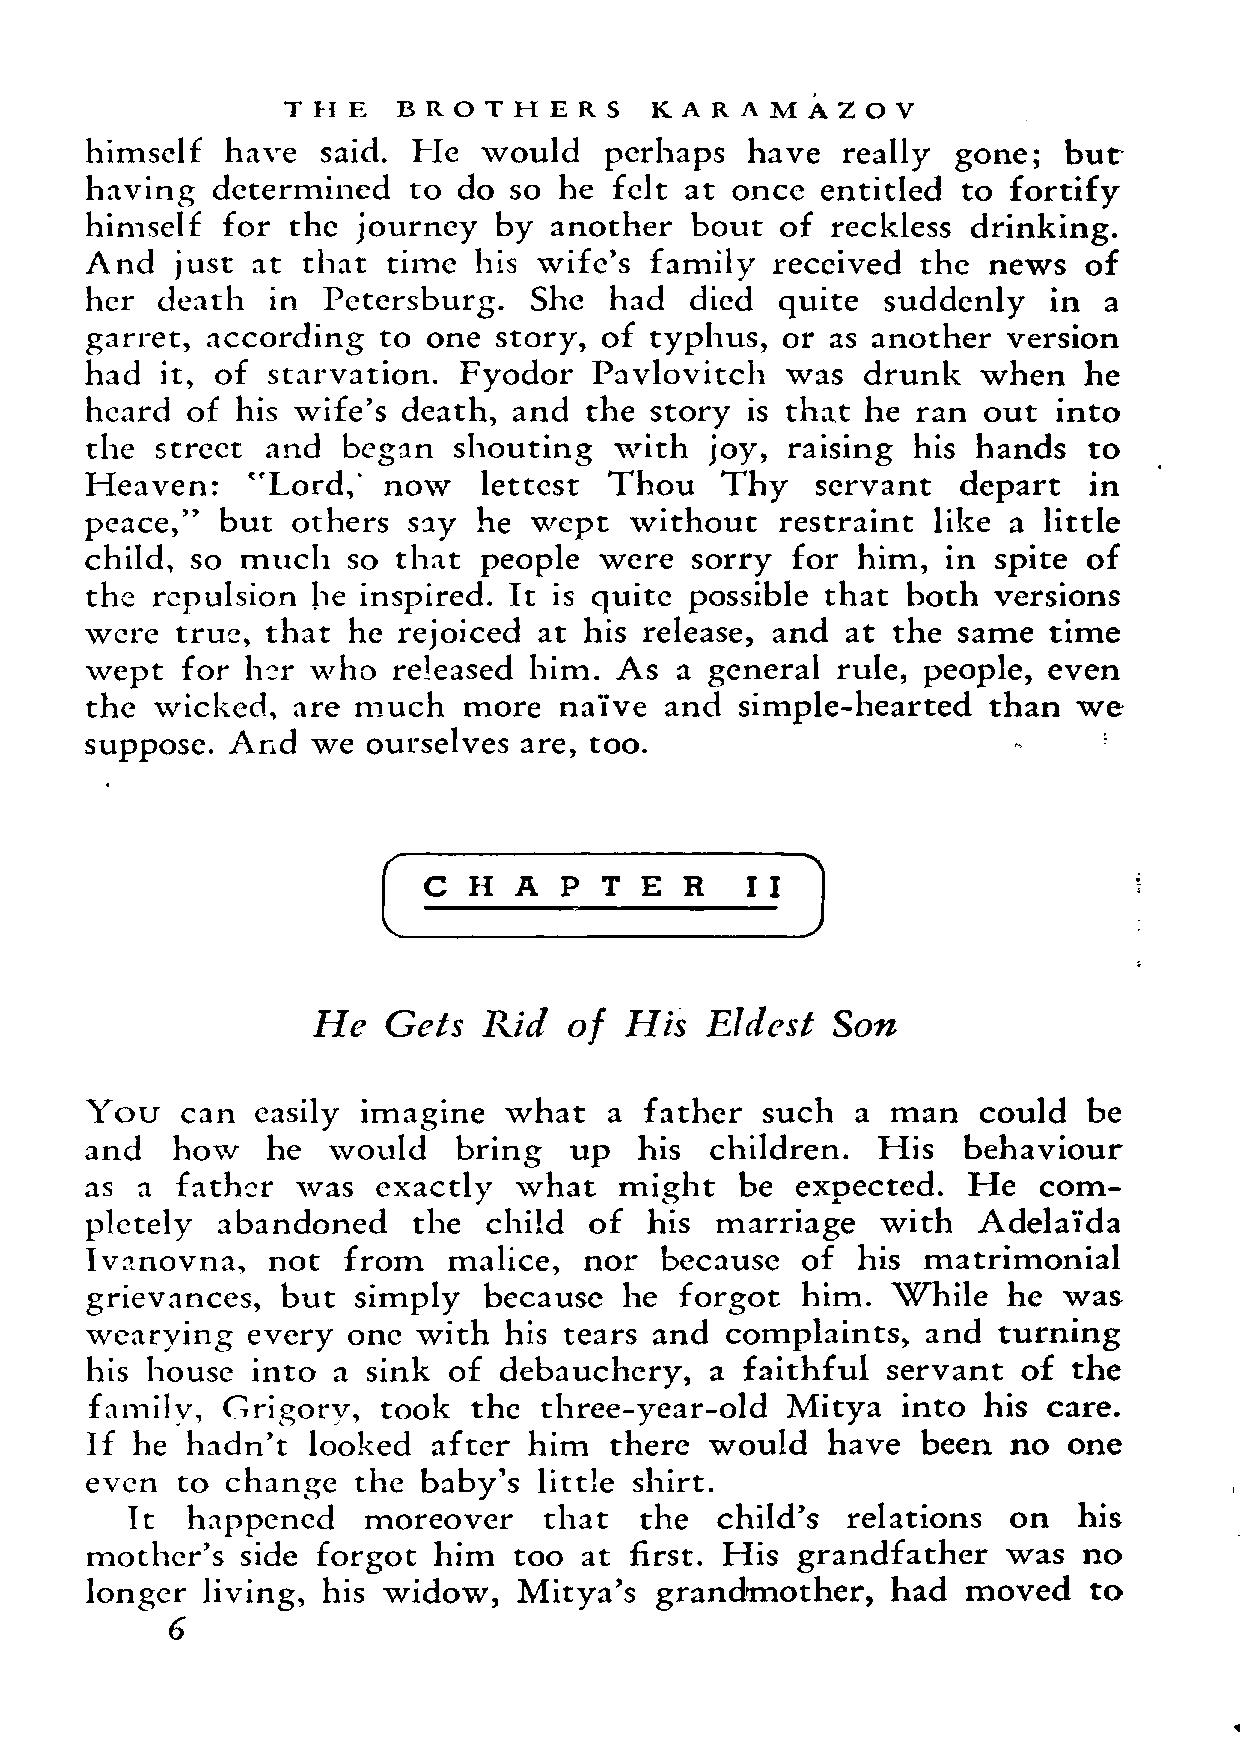chapter: (307, 843, 905, 1047), (276, 94, 918, 119)
content: (81, 132, 1125, 765), (82, 1095, 1125, 1608)
content_pagenumber: (160, 1610, 191, 1644)
